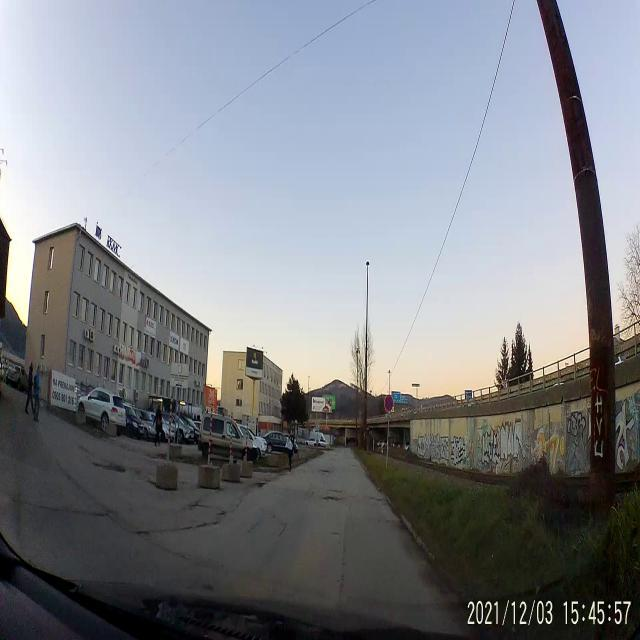Pothole: (320, 494, 342, 504), (320, 467, 333, 477)
